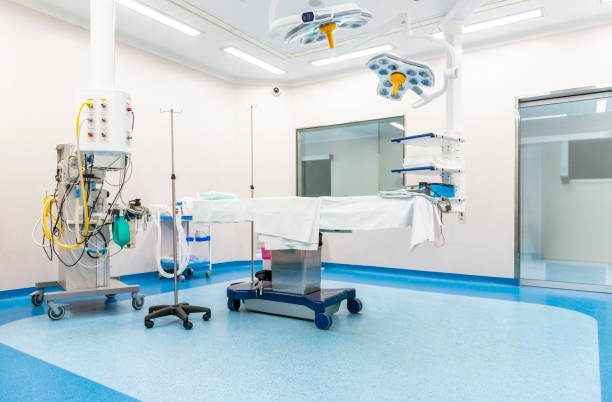breathing_tube: (145, 203, 190, 280)
electrosurgical_unit: (397, 183, 459, 199)
iv_pole: (149, 102, 214, 343), (242, 104, 263, 290)
operating_bed: (187, 189, 442, 330)
surgical_light: (361, 56, 438, 108), (284, 6, 370, 52)
utility_cart: (140, 194, 211, 283)
ventilator: (31, 142, 148, 292)
